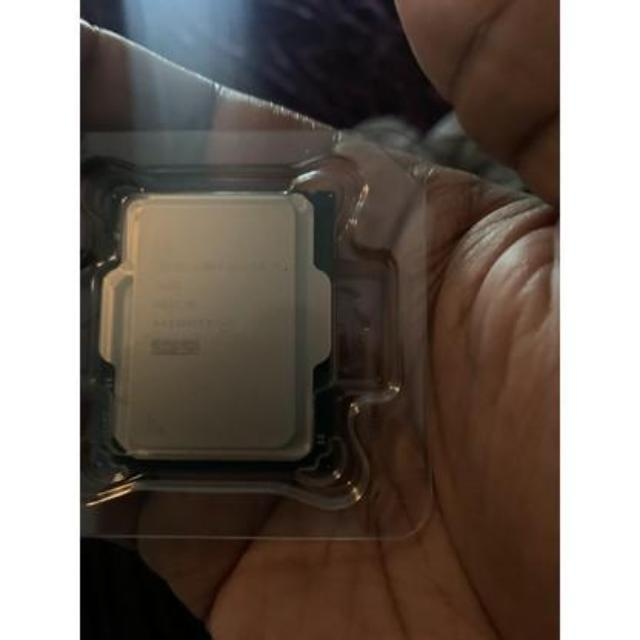CPU: (90, 171, 336, 480)
